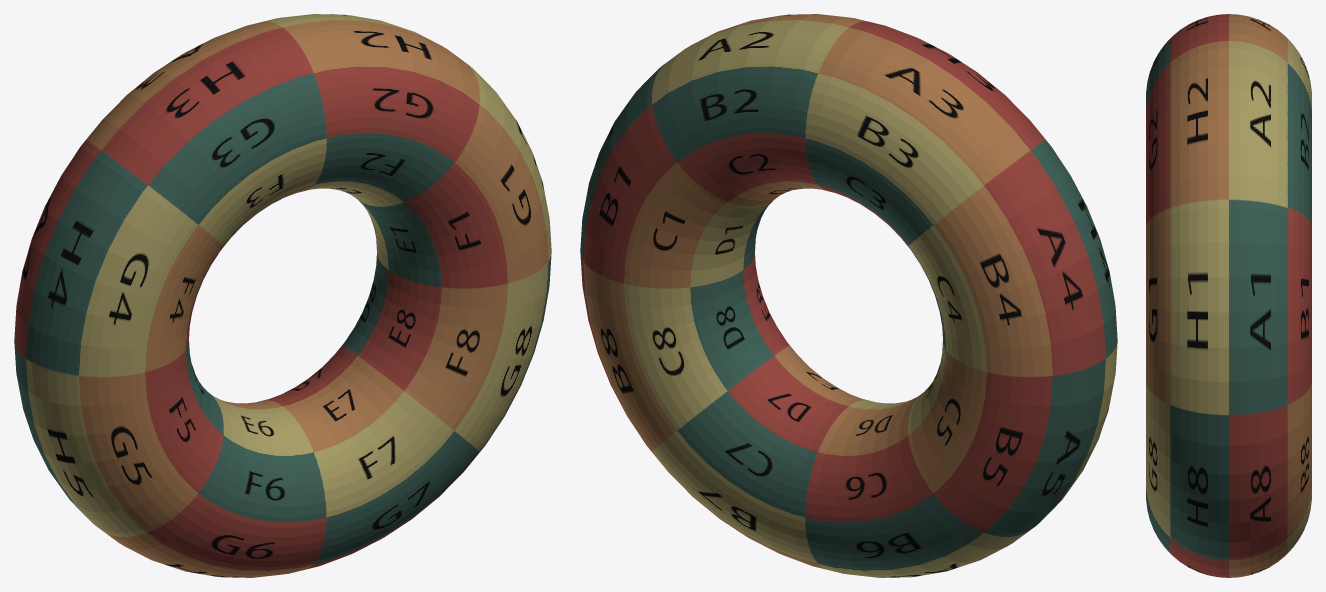
The model's file is texture_torus_R20_r29.glb.
The picture shows the model from 3 angles, left to right: view 1: azimuth 30°, elevation 25°; view 2: azimuth 150°, elevation 25°; view 3: azimuth 270°, elevation 25°; orthographic projection. The views are drawn at different scales.
Parts seen in each view (by area): view 1: world; view 2: world; view 3: world.
Boxes of the visible parts, x1=… form: world: x1=14, y1=14, x2=551, y2=577; world: x1=580, y1=14, x2=1117, y2=577; world: x1=1146, y1=14, x2=1311, y2=577.
Size of the model in its own units: 33.07 by 33 by 9.71.
Materials: 1 (1 with a texture image).
